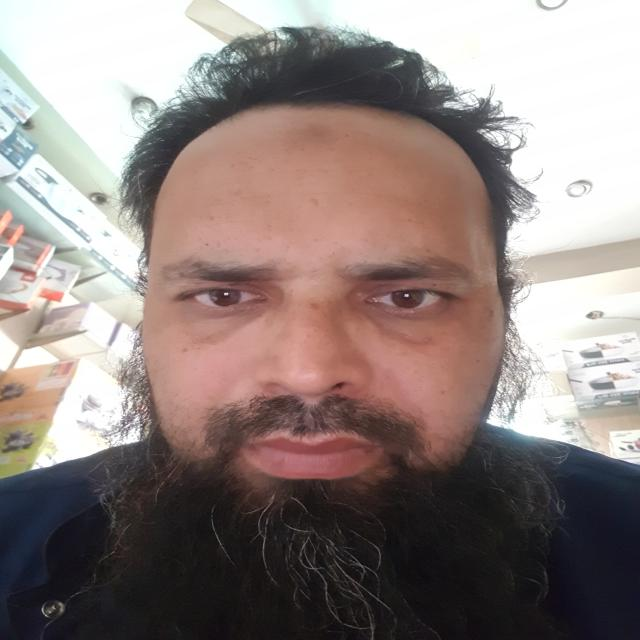Englarged-Pores: (381, 327, 435, 353), (184, 332, 210, 349)
Eyebags: (171, 292, 284, 343), (352, 296, 459, 343)
Wrinkles: (209, 190, 403, 202), (246, 167, 366, 173), (184, 217, 279, 224), (337, 218, 432, 224), (187, 179, 222, 191)
